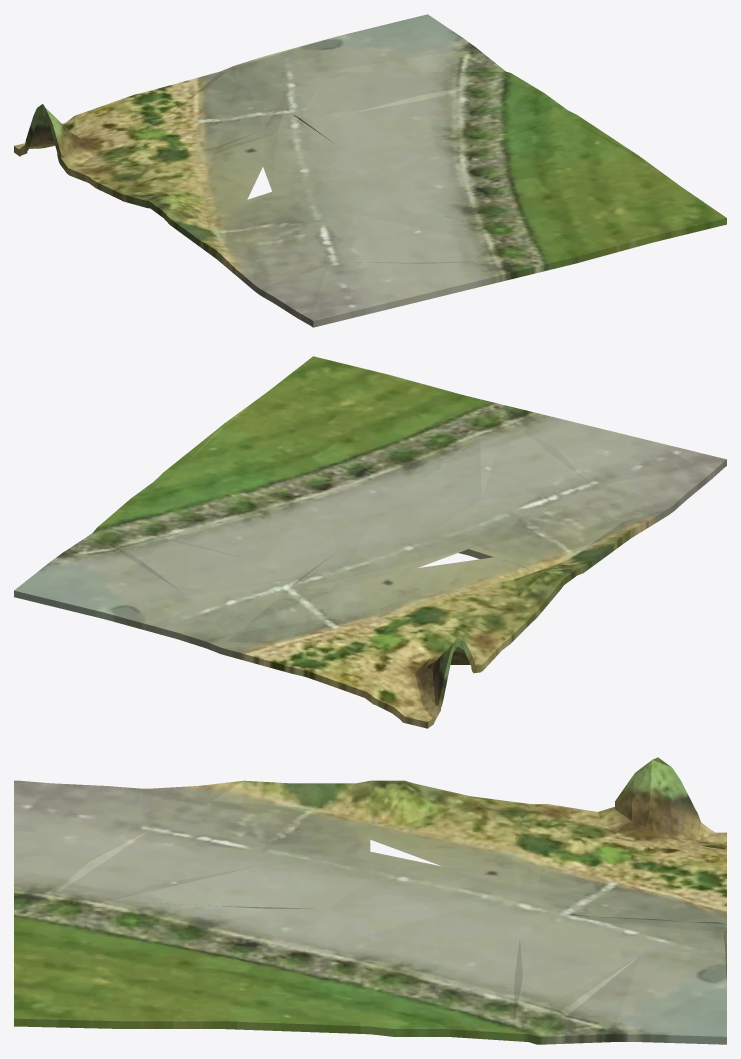
File: BuildingMesh-00099.gltf
3 views of the same model, one above another, from view 1: azimuth 30°, elevation 25°; view 2: azimuth 150°, elevation 25°; view 3: azimuth 270°, elevation 25° (orthographic). The views are drawn at different scales.
Parts seen in each view (by area): view 1: BuildingMesh-00099; view 2: BuildingMesh-00099; view 3: BuildingMesh-00099.
Part boxes in pixels (<box>): BuildingMesh-00099: <box>14,14,726,327</box>; BuildingMesh-00099: <box>14,356,726,728</box>; BuildingMesh-00099: <box>14,757,726,1044</box>.
Bounding box in the file's own units: 0.7765 × 0.1255 × 0.9725.
Materials: 1 (1 with a texture image).
